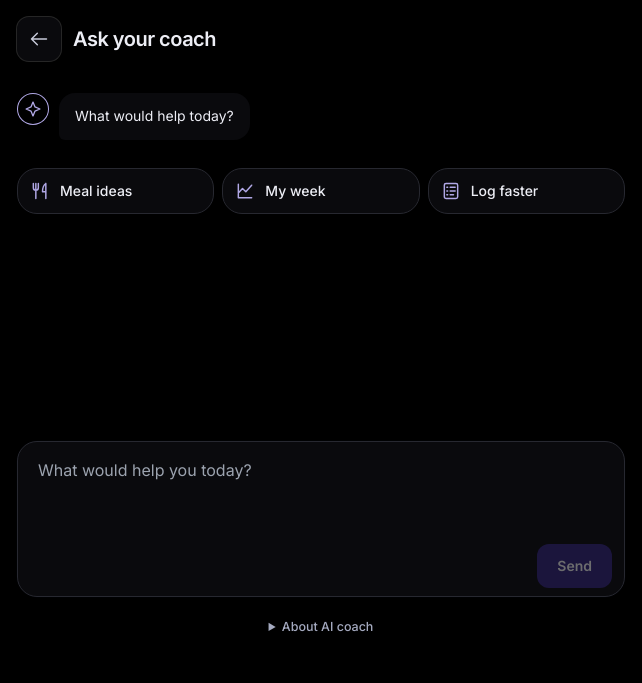
Test: coach user journey › keeps a failed question and retries it without duplicating the user message
Type "Help me with dinner" into the text box with test id "coach-chat-input" at {"x": 321, "y": 494}, box [26,450,616,538]
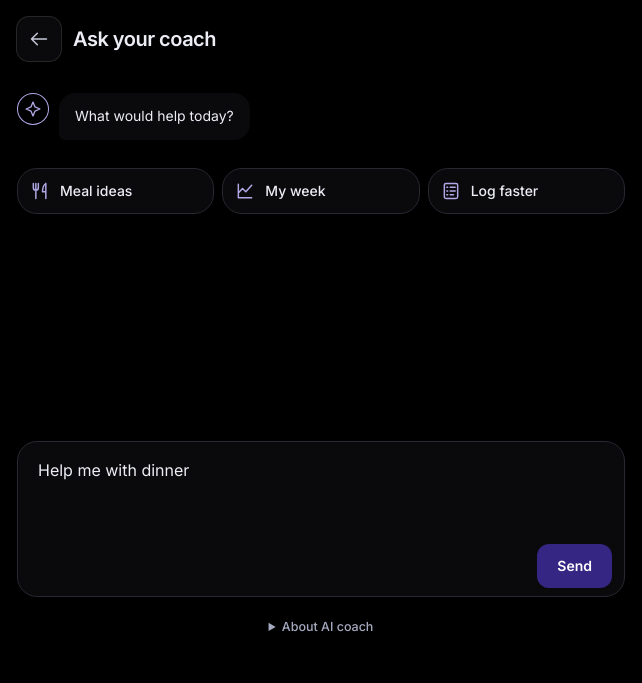
Click the button with test id "coach-chat-send-button" at {"x": 575, "y": 566}, box [537,544,612,588]
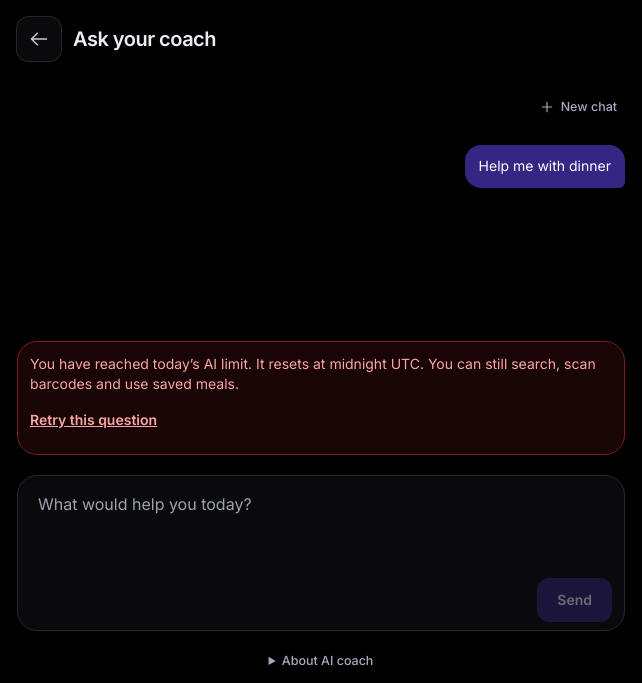
Expected: the text "reached today’s AI limit" is shown, [30,355,596,392]
Click the button with test id "coach-chat-retry" at {"x": 94, "y": 420}, box [30,398,157,442]
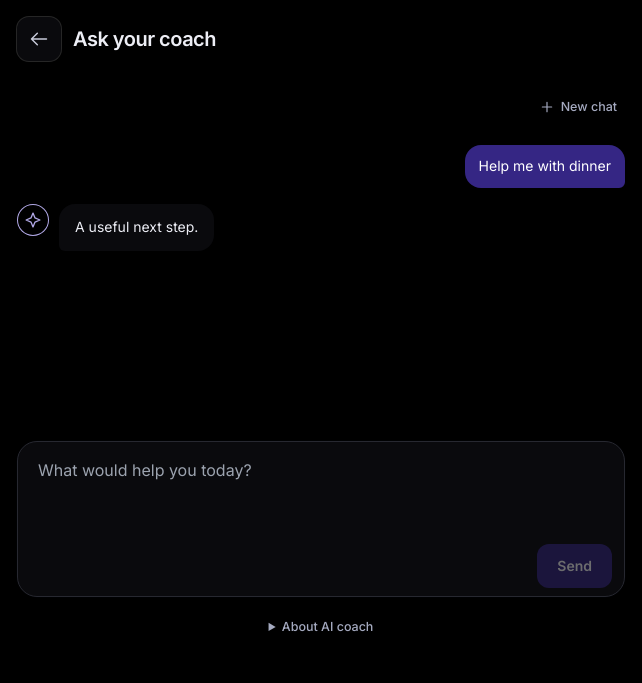
Expected: the text "Help me with dinner" is shown once, [479,157,611,174]
Expected: the text "Help me with dinner" is shown, [479,157,611,174]
Expected: the text "A useful next step." is shown, [75,216,198,239]
